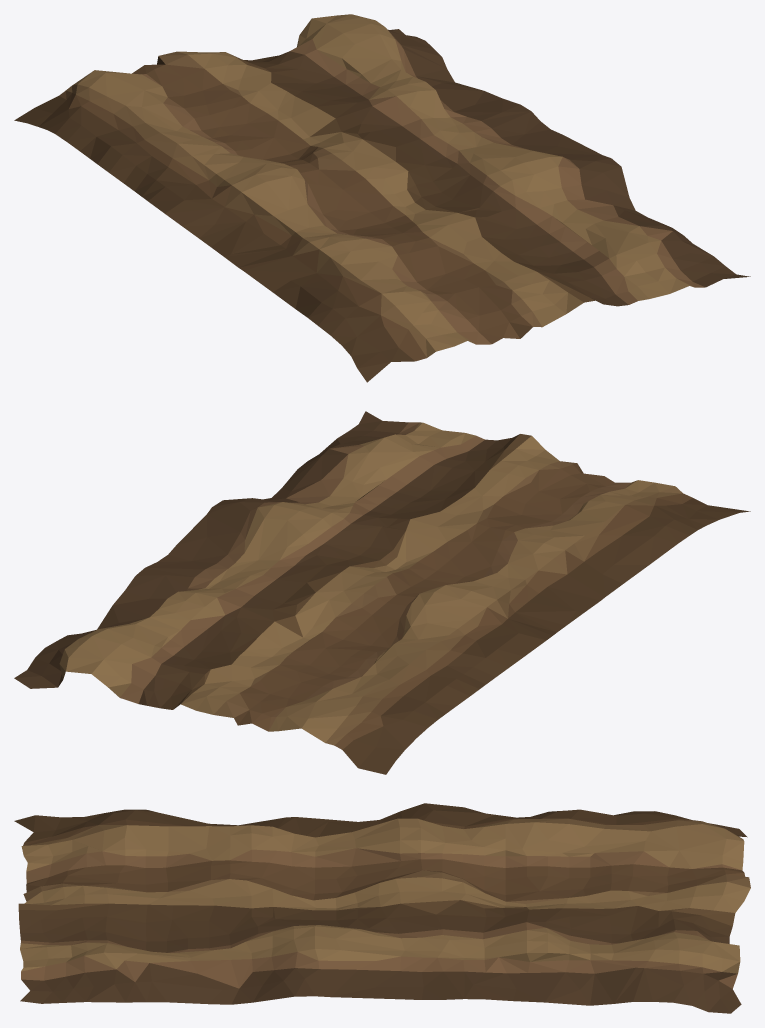
Rendered from EA_M_Env_Road_Mud_01b.fbx.
3 views of the same model, one above another, from view 1: azimuth 30°, elevation 25°; view 2: azimuth 150°, elevation 25°; view 3: azimuth 270°, elevation 25° (orthographic).
Parts seen in each view (by area): view 1: EA_M_Env_Road_Mud_01b_LOD0; view 2: EA_M_Env_Road_Mud_01b_LOD0; view 3: EA_M_Env_Road_Mud_01b_LOD0.
Boxes of the visible parts, <box> form: EA_M_Env_Road_Mud_01b_LOD0: <box>14,14,750,382</box>; EA_M_Env_Road_Mud_01b_LOD0: <box>14,411,750,774</box>; EA_M_Env_Road_Mud_01b_LOD0: <box>14,803,750,1013</box>.
Size of what is drawn, in the model's own units: 4.08 by 0.4178 by 6.57.
